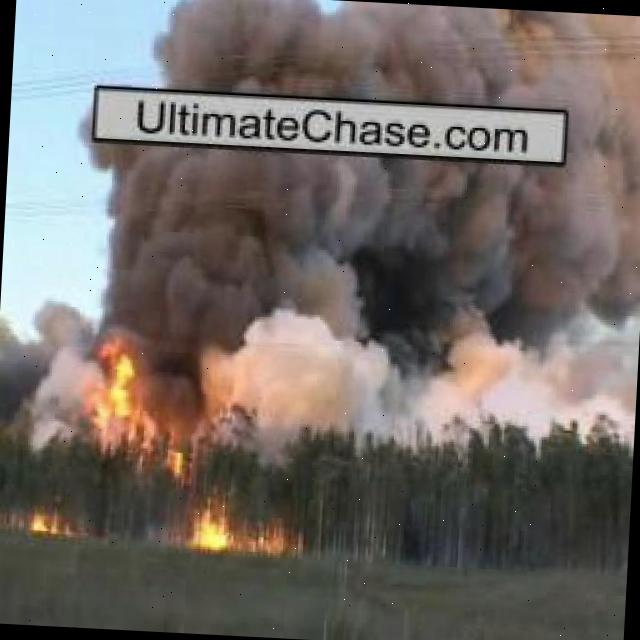fire: (86, 321, 174, 459), (192, 489, 298, 558), (23, 499, 82, 535)
